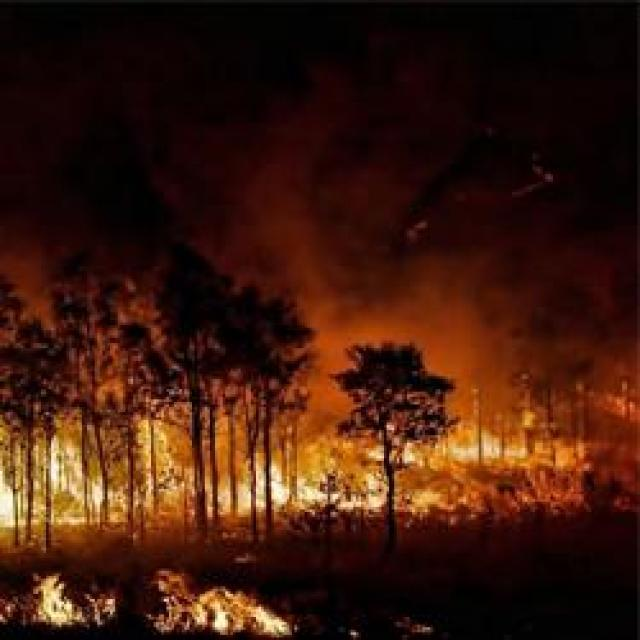Fire: (8, 398, 563, 532), (149, 582, 294, 636), (67, 576, 121, 634), (38, 576, 85, 628)
Smoke: (155, 128, 380, 316), (352, 256, 590, 374)
